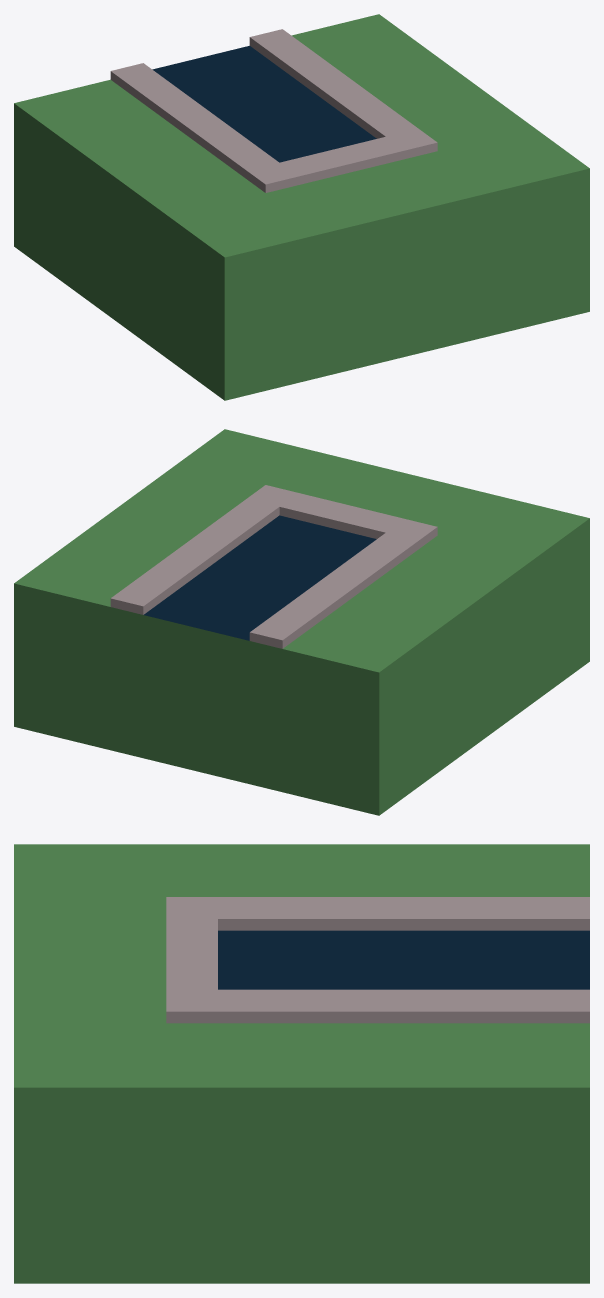
File: DeadEnd.fbx
3 views of the same model, one above another, from view 1: azimuth 30°, elevation 25°; view 2: azimuth 150°, elevation 25°; view 3: azimuth 270°, elevation 25° (orthographic). The views are drawn at different scales.
Parts seen in each view (by area): view 1: Cube.012; view 2: Cube.012; view 3: Cube.012.
Part boxes in pixels (x1=…): Cube.012: x1=14, y1=14, x2=589, y2=400; Cube.012: x1=14, y1=429, x2=589, y2=815; Cube.012: x1=14, y1=844, x2=589, y2=1283.
Bounding box in the file's own units: 400 × 159 × 400.
